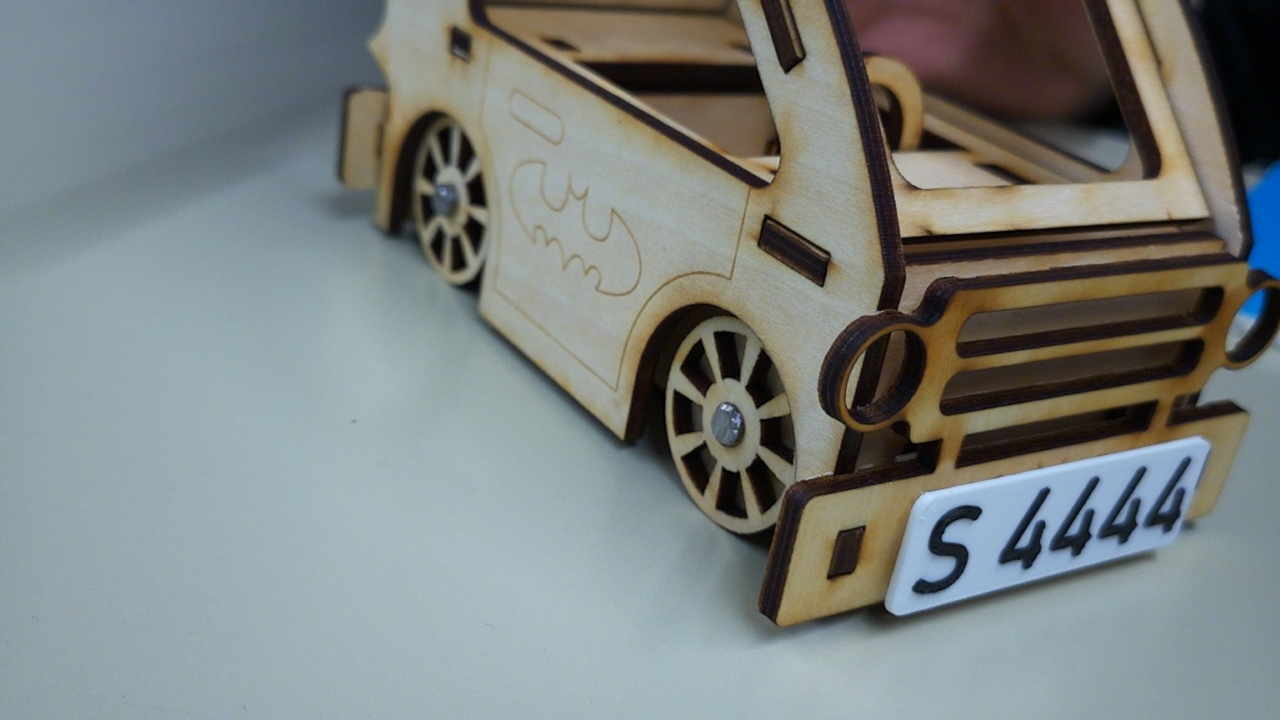license_plate: (882, 433, 1214, 620)
